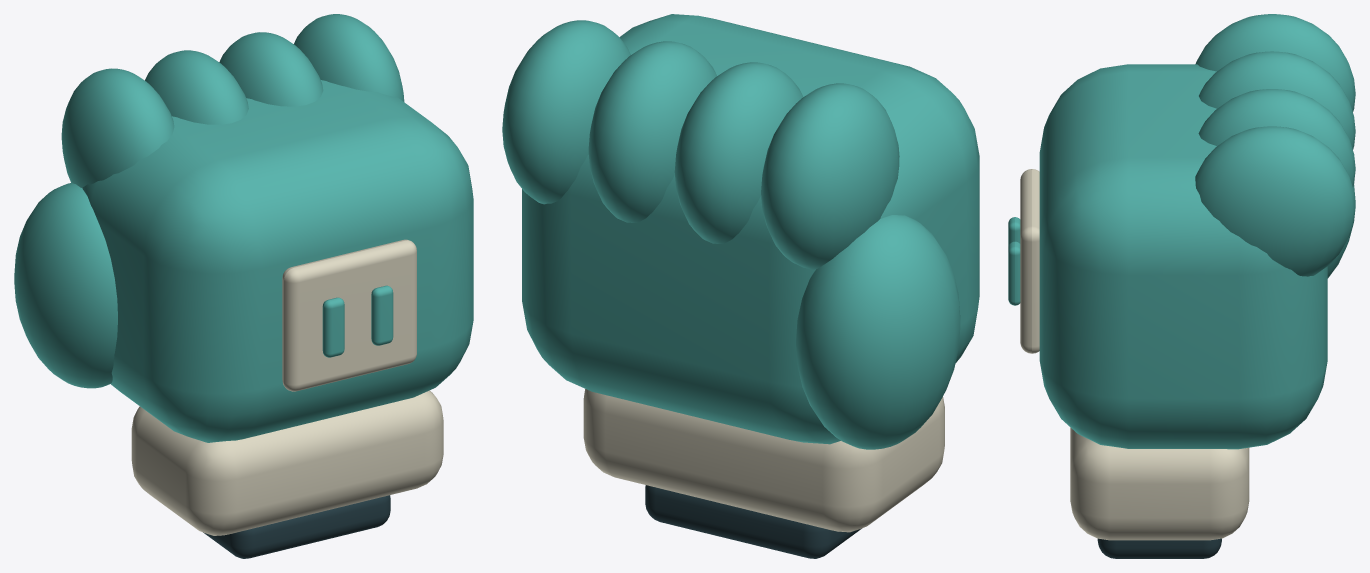
File: fist_right.glb
3 renders of one model, left to right at view 1: azimuth 30°, elevation 25°; view 2: azimuth 150°, elevation 25°; view 3: azimuth 270°, elevation 25°, orthographic. The views are drawn at different scales.
Visible parts, largest first — view 1: Closed palm, Cuff, Tucked inward thumb, Spool badge, Soft knuckle 0, Soft knuckle 3, Soft knuckle 1, Soft knuckle 2, Socket, Badge spool.001, Badge spool; view 2: Closed palm, Tucked inward thumb, Cuff, Soft knuckle 0, Soft knuckle 3, Soft knuckle 1, Soft knuckle 2, Socket; view 3: Closed palm, Soft knuckle 3, Cuff, Soft knuckle 0, Soft knuckle 1, Soft knuckle 2, Spool badge, Socket, Badge spool.001.
Part boxes in pixels (x1=…): Closed palm: x1=82, y1=80, x2=473, y2=442; Cuff: x1=131, y1=390, x2=443, y2=535; Tucked inward thumb: x1=14, y1=183, x2=117, y2=388; Spool badge: x1=282, y1=239, x2=416, y2=391; Soft knuckle 0: x1=61, y1=68, x2=174, y2=188; Soft knuckle 3: x1=294, y1=14, x2=404, y2=101; Soft knuckle 1: x1=145, y1=50, x2=248, y2=124; Soft knuckle 2: x1=219, y1=32, x2=323, y2=106; Socket: x1=203, y1=495, x2=390, y2=558; Badge spool.001: x1=371, y1=285, x2=393, y2=345; Badge spool: x1=322, y1=297, x2=344, y2=357; Closed palm: x1=522, y1=14, x2=979, y2=444; Tucked inward thumb: x1=796, y1=215, x2=960, y2=449; Cuff: x1=583, y1=389, x2=944, y2=532; Soft knuckle 0: x1=761, y1=83, x2=899, y2=269; Soft knuckle 3: x1=502, y1=20, x2=630, y2=204; Soft knuckle 1: x1=674, y1=62, x2=802, y2=243; Soft knuckle 2: x1=588, y1=41, x2=716, y2=222; Socket: x1=645, y1=485, x2=861, y2=558; Closed palm: x1=1039, y1=64, x2=1327, y2=449; Soft knuckle 3: x1=1195, y1=126, x2=1355, y2=276; Cuff: x1=1070, y1=427, x2=1249, y2=540; Soft knuckle 0: x1=1195, y1=14, x2=1355, y2=111; Soft knuckle 1: x1=1199, y1=51, x2=1355, y2=149; Soft knuckle 2: x1=1198, y1=89, x2=1355, y2=186; Spool badge: x1=1020, y1=169, x2=1039, y2=353; Socket: x1=1097, y1=538, x2=1221, y2=558; Badge spool.001: x1=1008, y1=241, x2=1020, y2=305.
Size of the model in its own units: 0.2565 by 0.293 by 0.204.
